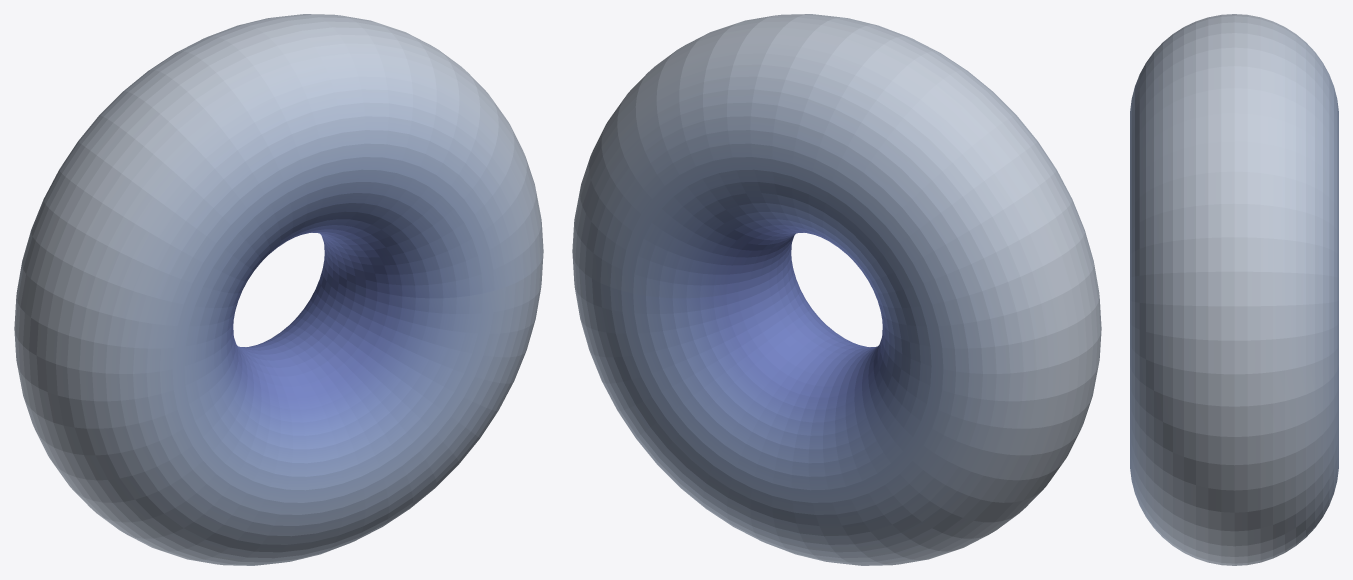
The picture shows the model from 3 angles, left to right: view 1: azimuth 30°, elevation 25°; view 2: azimuth 150°, elevation 25°; view 3: azimuth 270°, elevation 25°; orthographic projection. The views are drawn at different scales.
Parts seen in each view (by area): view 1: world; view 2: world; view 3: world.
Part boxes in pixels (x1,y1,x2,y2): world: (14, 14, 543, 565); world: (572, 14, 1101, 565); world: (1130, 14, 1338, 565).
Size of the model in its own units: 19.33 by 19.3 by 7.32.
